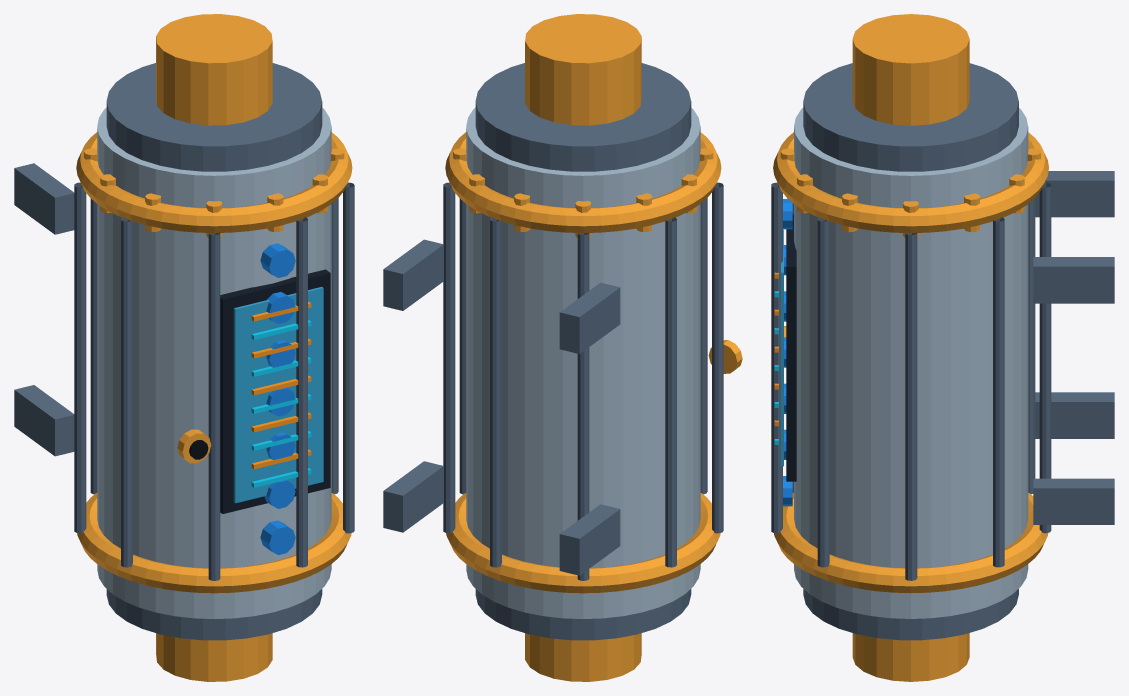
The model's file is 46_L88_CondensateWaterSeparator.fbx.
3 views of the same model, side by side, from view 1: azimuth 30°, elevation 25°; view 2: azimuth 150°, elevation 25°; view 3: azimuth 270°, elevation 25° (orthographic).
Parts seen in each view (by area): view 1: L87_CondensateWaterSeparator_Part_0000, L87_CondensateWaterSeparator_Part_0001, L87_CondensateWaterSeparator_Part_0002, L87_CondensateWaterSeparator_Part_0004, L87_CondensateWaterSeparator_Part_0003, L87_CondensateWaterSeparator_Part_0007, L87_CondensateWaterSeparator_Part_0006, L87_CondensateWaterSeparator_Part_0005, L87_CondensateWaterSeparator_Part_0008; view 2: L87_CondensateWaterSeparator_Part_0000, L87_CondensateWaterSeparator_Part_0001, L87_CondensateWaterSeparator_Part_0002, L87_CondensateWaterSeparator_Part_0008; view 3: L87_CondensateWaterSeparator_Part_0000, L87_CondensateWaterSeparator_Part_0001, L87_CondensateWaterSeparator_Part_0002, L87_CondensateWaterSeparator_Part_0003, L87_CondensateWaterSeparator_Part_0007, L87_CondensateWaterSeparator_Part_0004.
Boxes of the visible parts, box(x1,y1,x2,y2) form: L87_CondensateWaterSeparator_Part_0000: box(97, 107, 331, 618); L87_CondensateWaterSeparator_Part_0001: box(14, 63, 354, 640); L87_CondensateWaterSeparator_Part_0002: box(76, 14, 352, 681); L87_CondensateWaterSeparator_Part_0004: box(233, 287, 323, 503); L87_CondensateWaterSeparator_Part_0003: box(220, 269, 330, 513); L87_CondensateWaterSeparator_Part_0007: box(260, 243, 295, 554); L87_CondensateWaterSeparator_Part_0006: box(251, 302, 311, 469); L87_CondensateWaterSeparator_Part_0005: box(251, 320, 311, 487); L87_CondensateWaterSeparator_Part_0008: box(177, 429, 211, 463); L87_CondensateWaterSeparator_Part_0000: box(466, 107, 700, 618); L87_CondensateWaterSeparator_Part_0001: box(383, 63, 723, 640); L87_CondensateWaterSeparator_Part_0002: box(445, 14, 721, 681); L87_CondensateWaterSeparator_Part_0008: box(708, 340, 742, 373); L87_CondensateWaterSeparator_Part_0000: box(794, 108, 1028, 618); L87_CondensateWaterSeparator_Part_0001: box(771, 63, 1114, 640); L87_CondensateWaterSeparator_Part_0002: box(773, 14, 1048, 681); L87_CondensateWaterSeparator_Part_0003: box(786, 214, 796, 481); L87_CondensateWaterSeparator_Part_0007: box(783, 199, 792, 506); L87_CondensateWaterSeparator_Part_0004: box(781, 229, 783, 466).
Size of the model in its own units: 110 by 268 by 135.
